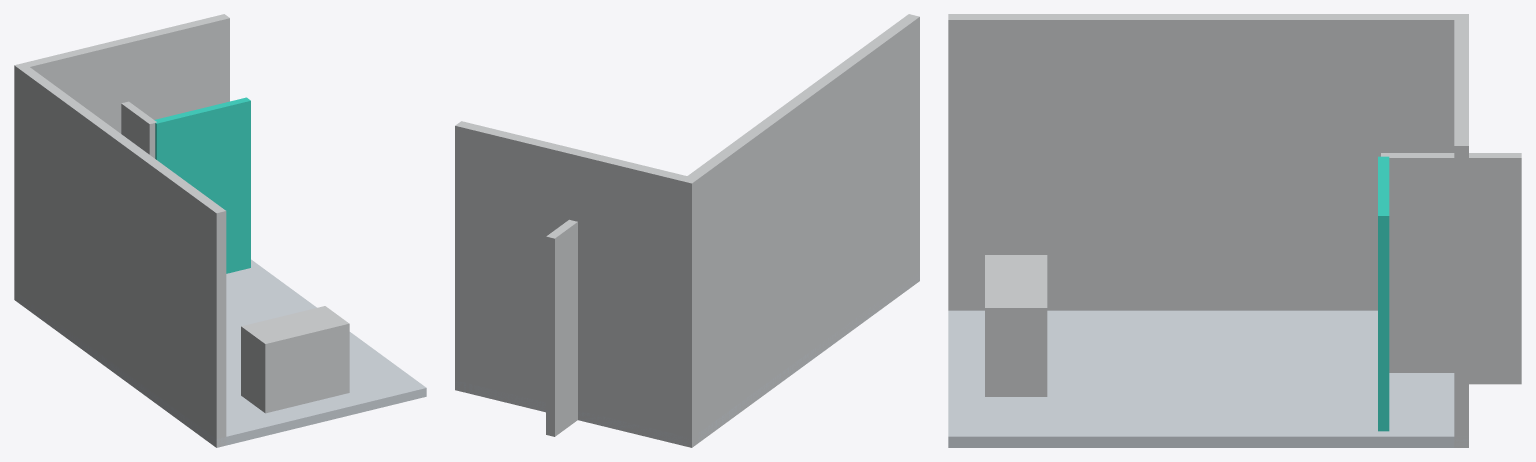
3 views of the same model, side by side, from view 1: azimuth 30°, elevation 25°; view 2: azimuth 150°, elevation 25°; view 3: azimuth 270°, elevation 25° (orthographic). The views are drawn at different scales.
Parts seen in each view (by area): view 1: Exhibition Booth Concept; view 2: Exhibition Booth Concept; view 3: Exhibition Booth Concept.
Boxes of the visible parts, bbox=[...] form: Exhibition Booth Concept: bbox=[14, 14, 426, 447]; Exhibition Booth Concept: bbox=[455, 14, 919, 447]; Exhibition Booth Concept: bbox=[948, 14, 1521, 447].
Size of the model in its own units: 3 by 3.2 by 5.51.
